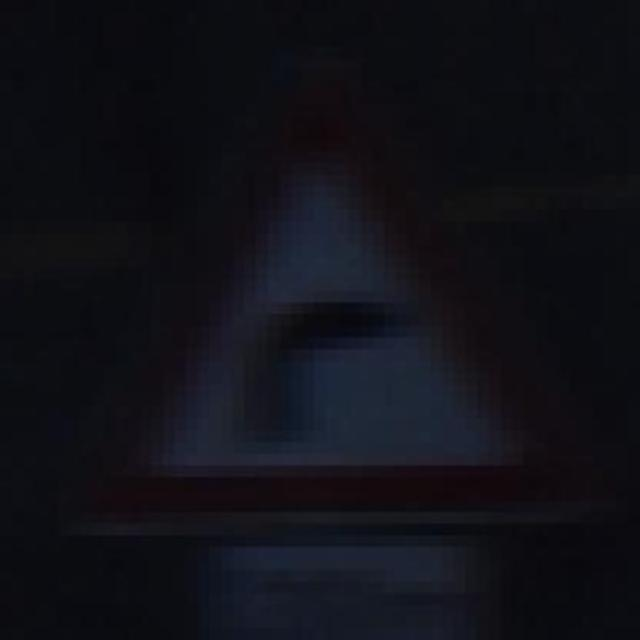Dangerous Rright Curve Ahead: (104, 93, 582, 559)
